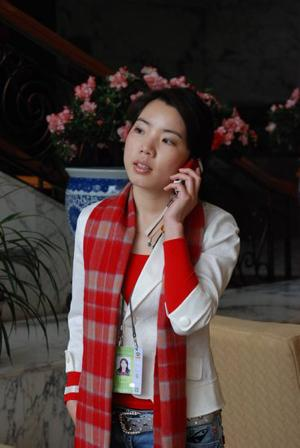person: (64, 85, 239, 447)
